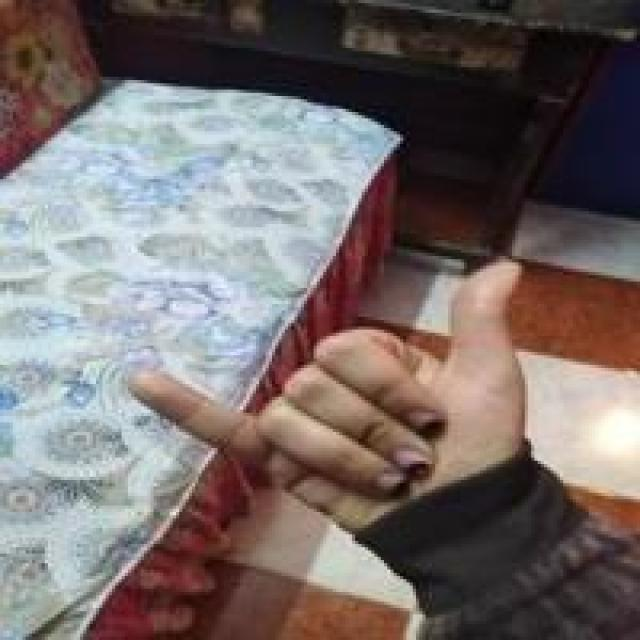Y: (115, 253, 541, 515)
